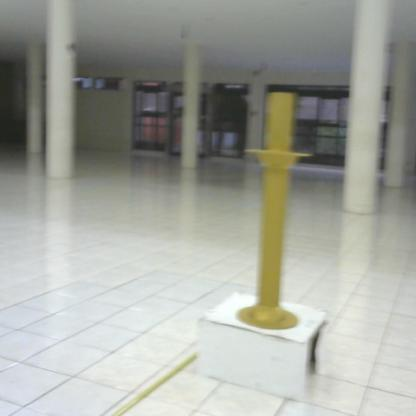pole: (238, 88, 316, 340)
